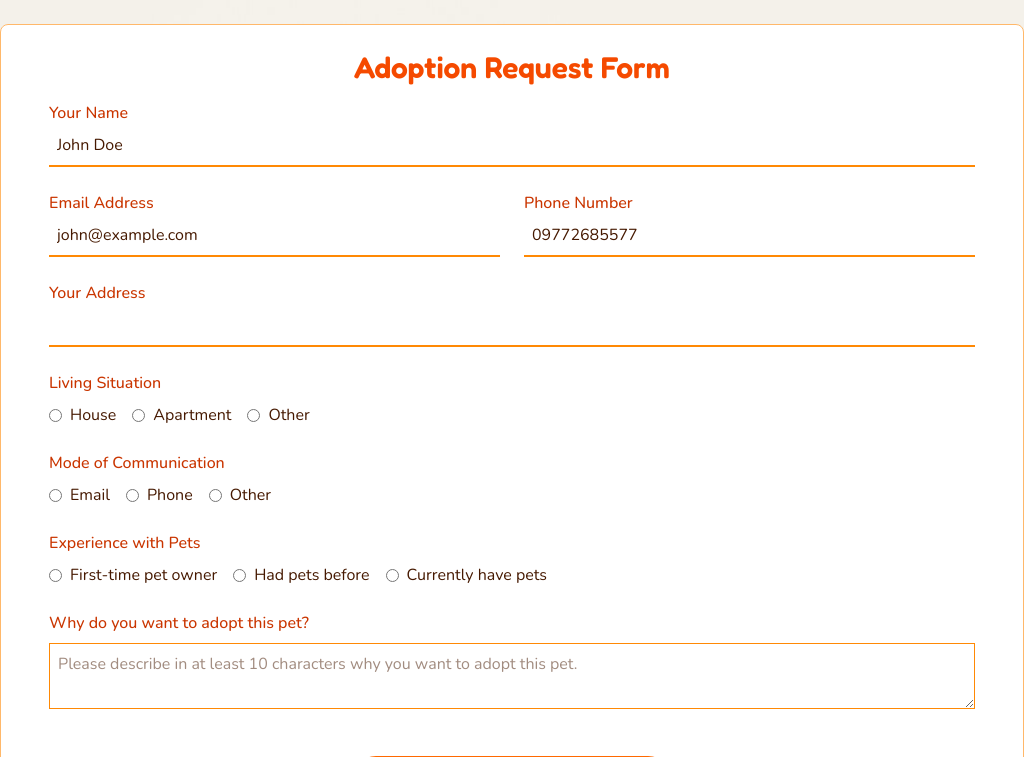
AdoptionForm › should show the 'Other' field when 'Other' is selected for mode of communication
Click the radio button with test id "Other-mode-input".
click(215, 495)  # box x1=209 y1=488 x2=222 y2=502
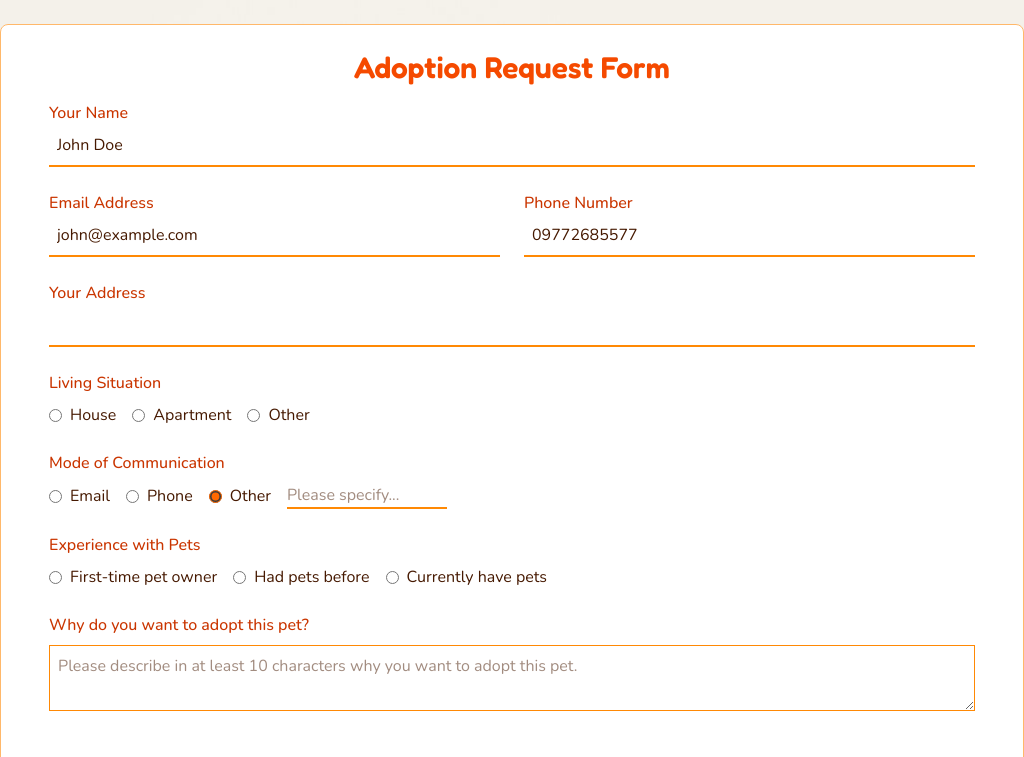
expect the field with test id "mode-other-input" is shown: met, box x1=287 y1=483 x2=447 y2=509
